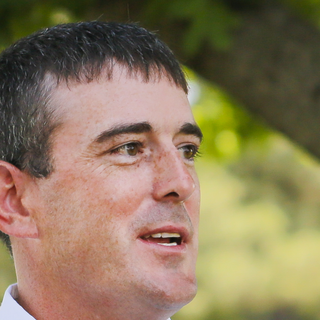eye: (102, 138, 151, 163), (168, 138, 209, 163)
